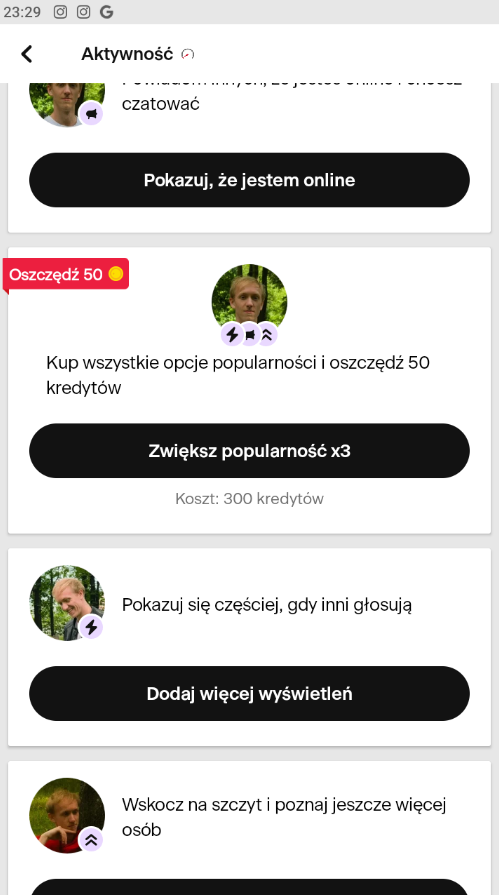kupno_button: (28, 150, 470, 210), (39, 663, 471, 721), (38, 424, 469, 478)
